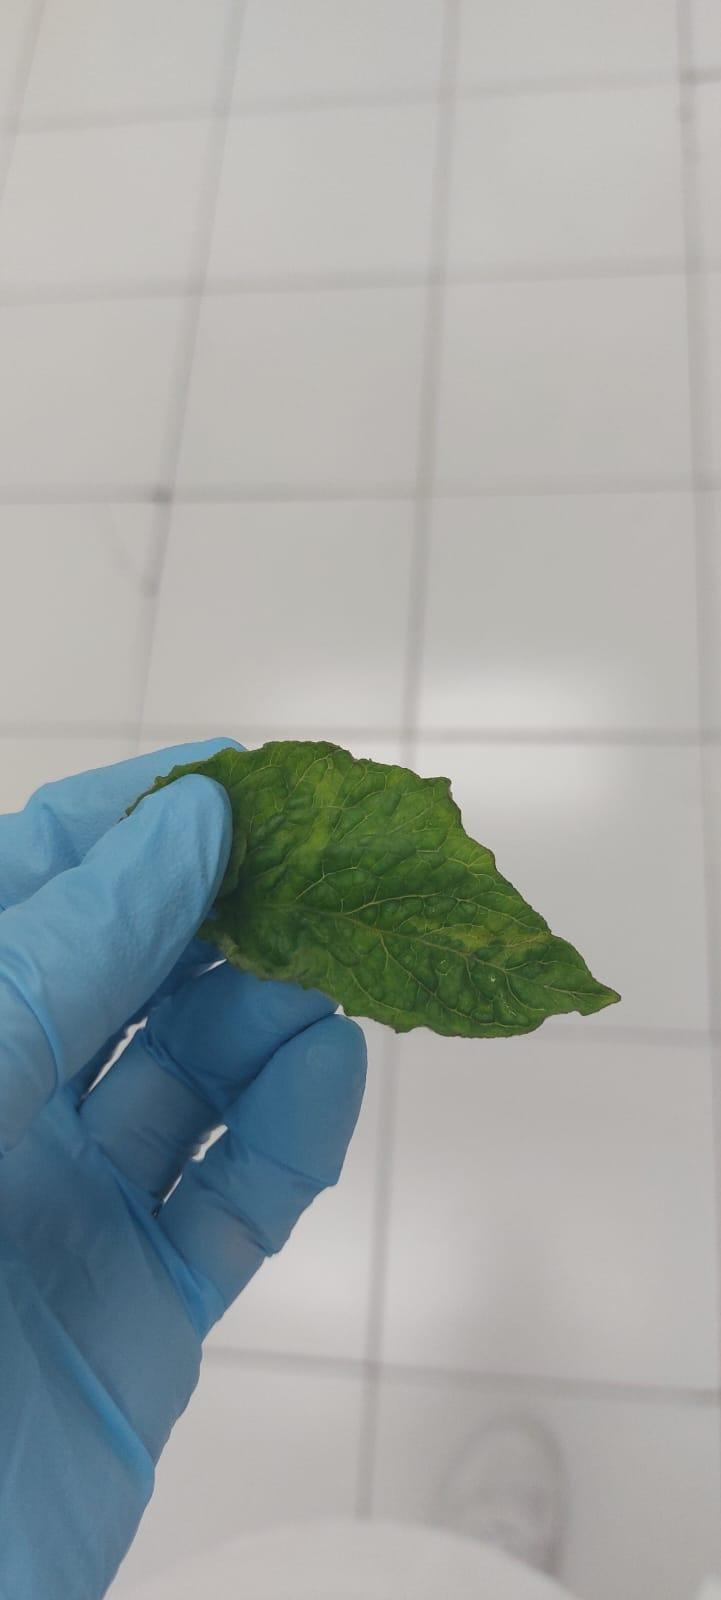Hoja rugoso: (152, 741, 619, 1038)
